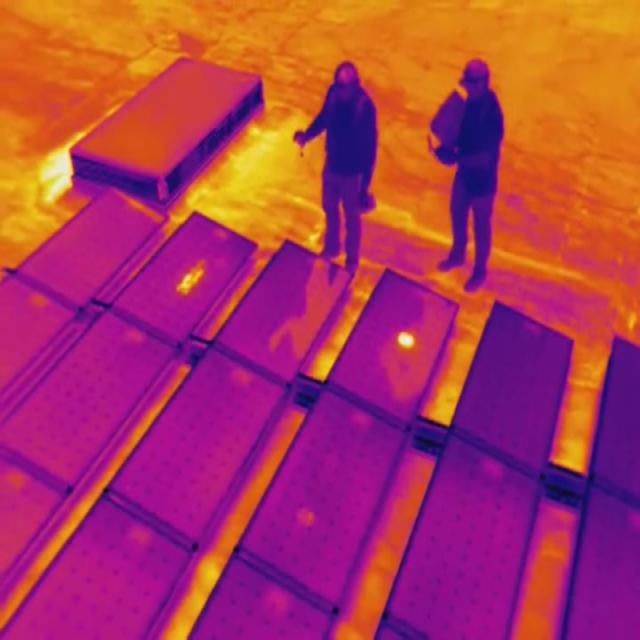Orange-Spots: (177, 262, 204, 296), (294, 501, 316, 531), (395, 326, 416, 355)
